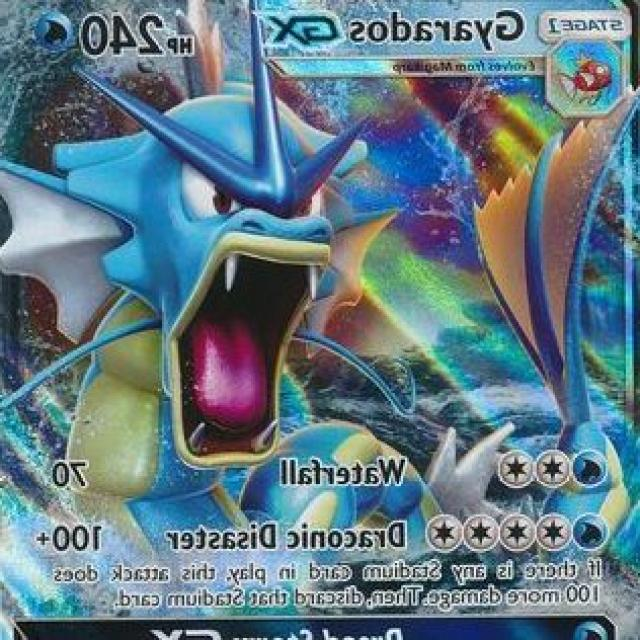Gyarados: (0, 70, 379, 540)
